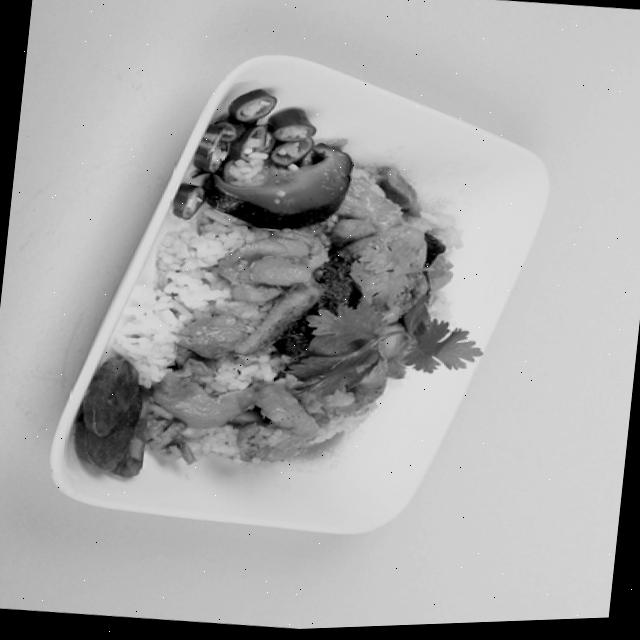米饭主食: (37, 23, 560, 569)
